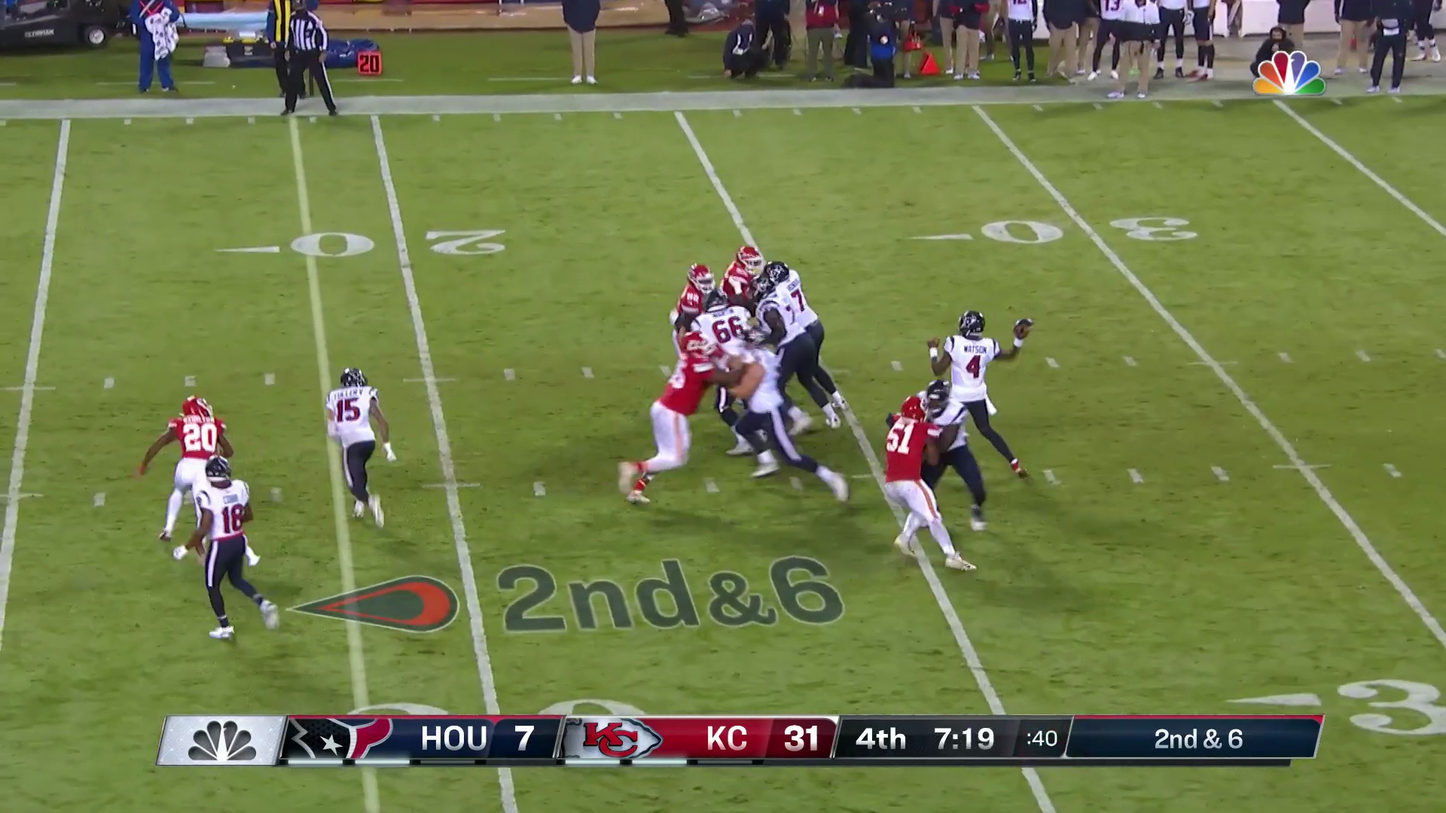Player: (707, 297, 791, 463), (163, 396, 249, 549), (938, 309, 1013, 471), (192, 449, 251, 640), (326, 367, 392, 525), (757, 262, 829, 405), (885, 391, 942, 551), (696, 285, 762, 423), (657, 265, 716, 413), (722, 245, 765, 314)
